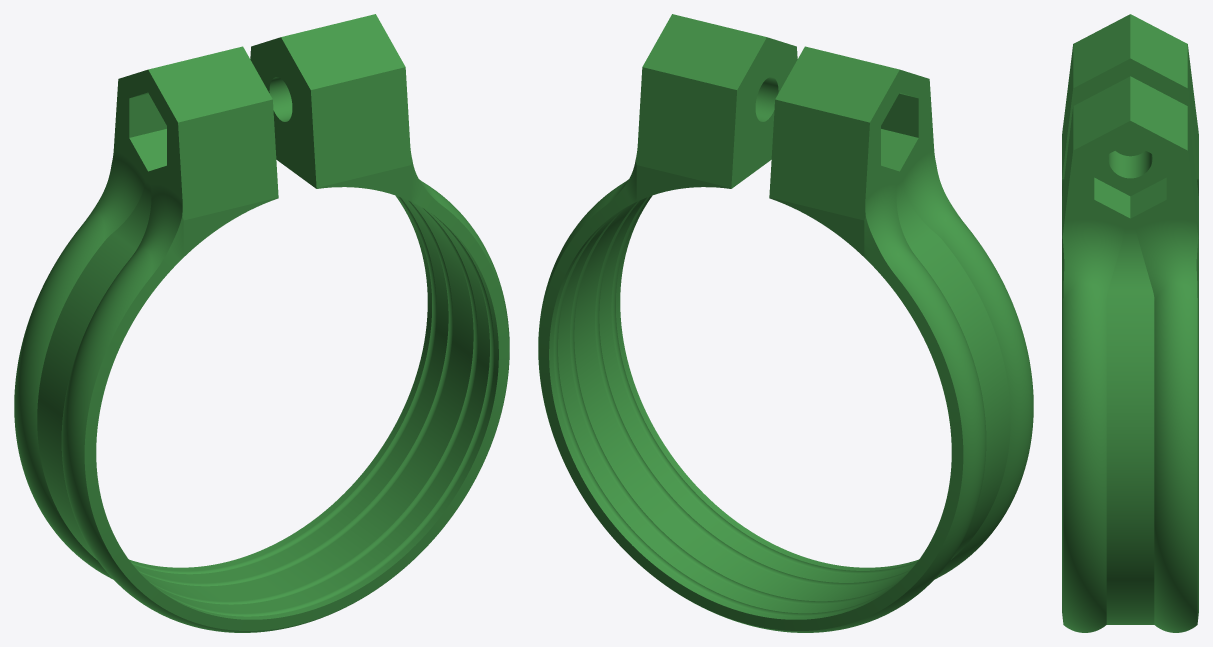
Rendered from Ring_3in.obj.
The picture shows the model from 3 angles, left to right: view 1: azimuth 30°, elevation 25°; view 2: azimuth 150°, elevation 25°; view 3: azimuth 270°, elevation 25°; orthographic projection. The views are drawn at different scales.
Parts seen in each view (by area): view 1: Body1; view 2: Body1; view 3: Body1.
Part boxes in pixels (x1,y1,x2,y2): Body1: (14, 14, 509, 632); Body1: (538, 14, 1033, 632); Body1: (1062, 14, 1198, 632).
Size of the model in its own units: 92.54 by 114 by 26.
